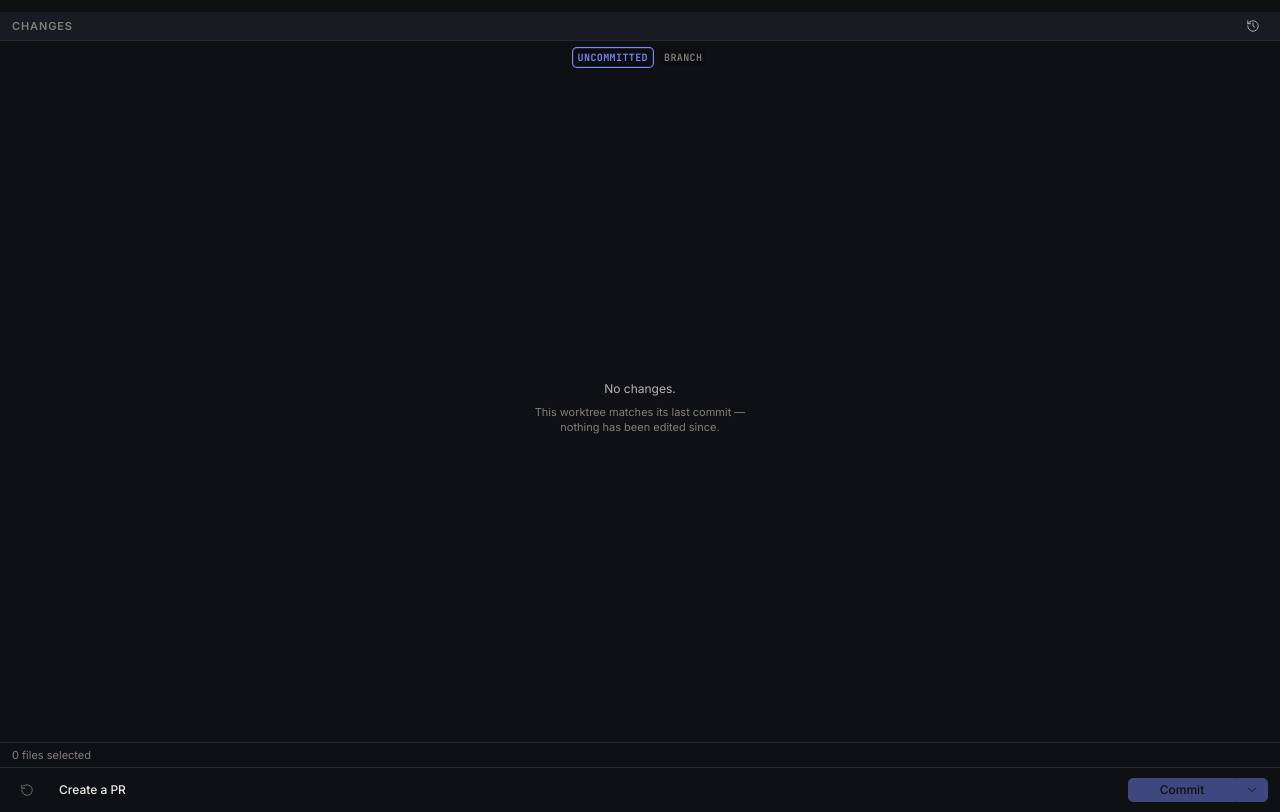
Test: the footer action control › CHG-FR-35, CHG-FR-36, CHG-FR-37 keeps Commit selectable while nothing is ticked, and Push not while nothing is pushable
Expected: the text "No changes." is shown, [604,381,676,397]
Expected: the button "Commit" is disabled, [1128,778,1236,802]
Click the button named "Choose action" at (1252, 790), box [1236,778,1268,802]
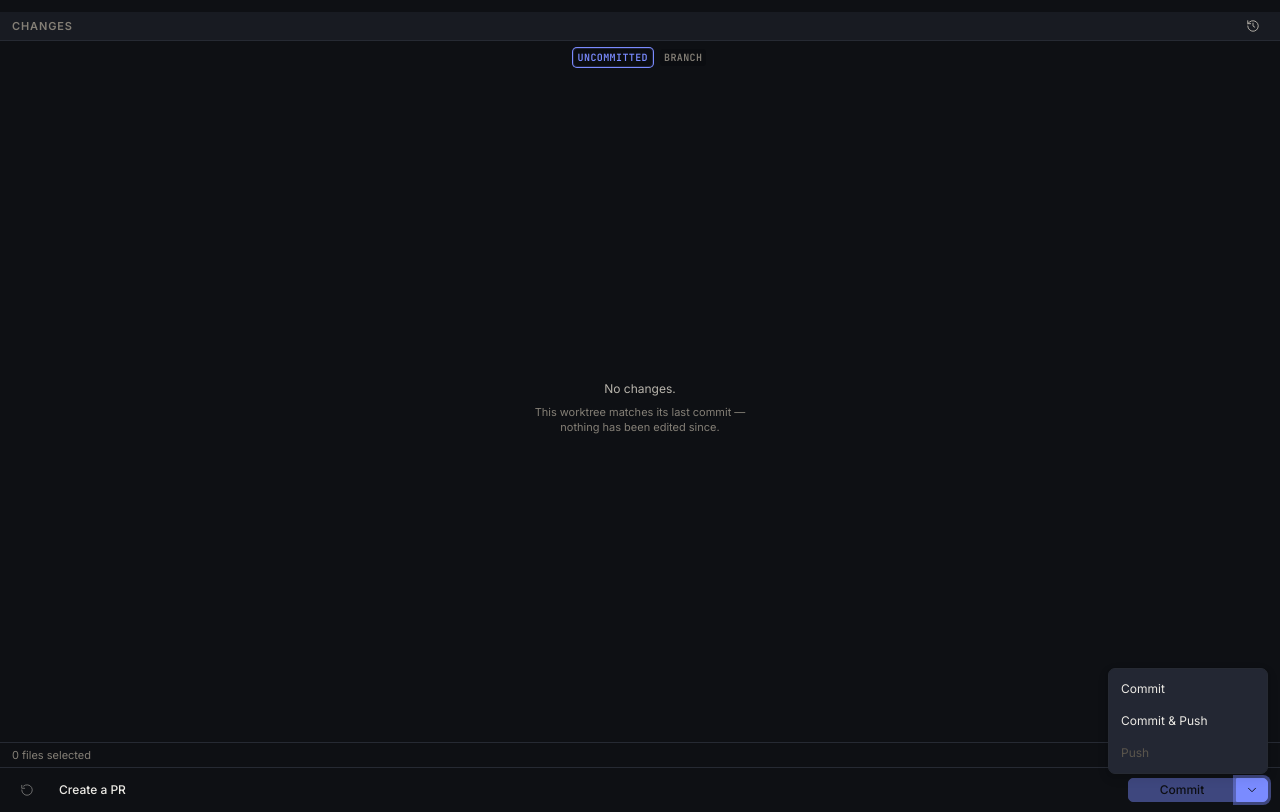
Expected: the number of options is 3
Expected: the option "Push" is shown
// Activating it persists nothing and changes nothing.
Click the option "Push" at (1135, 752), box [1121,745,1149,760]
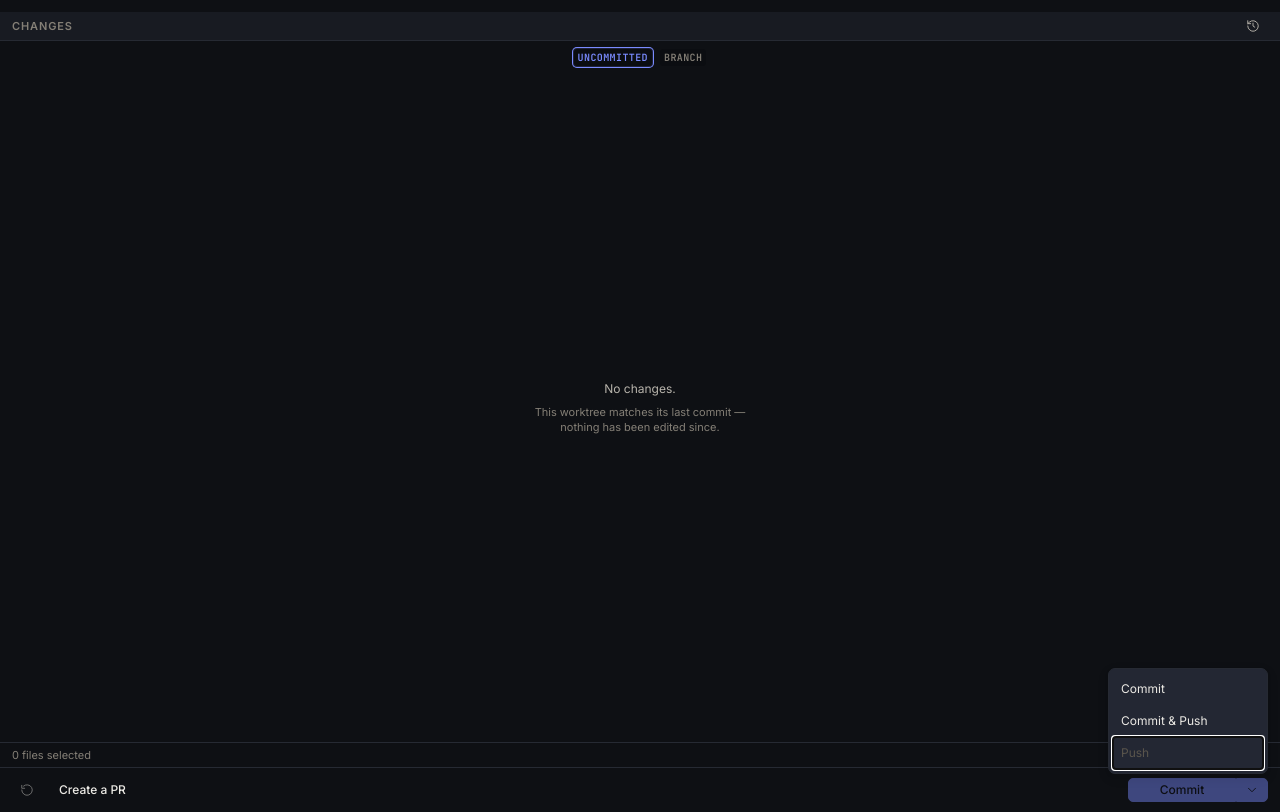
Expected: the button "Commit" is shown, [1128,778,1236,802]
Click the option "Commit & Push" at (1164, 720), box [1121,713,1208,728]
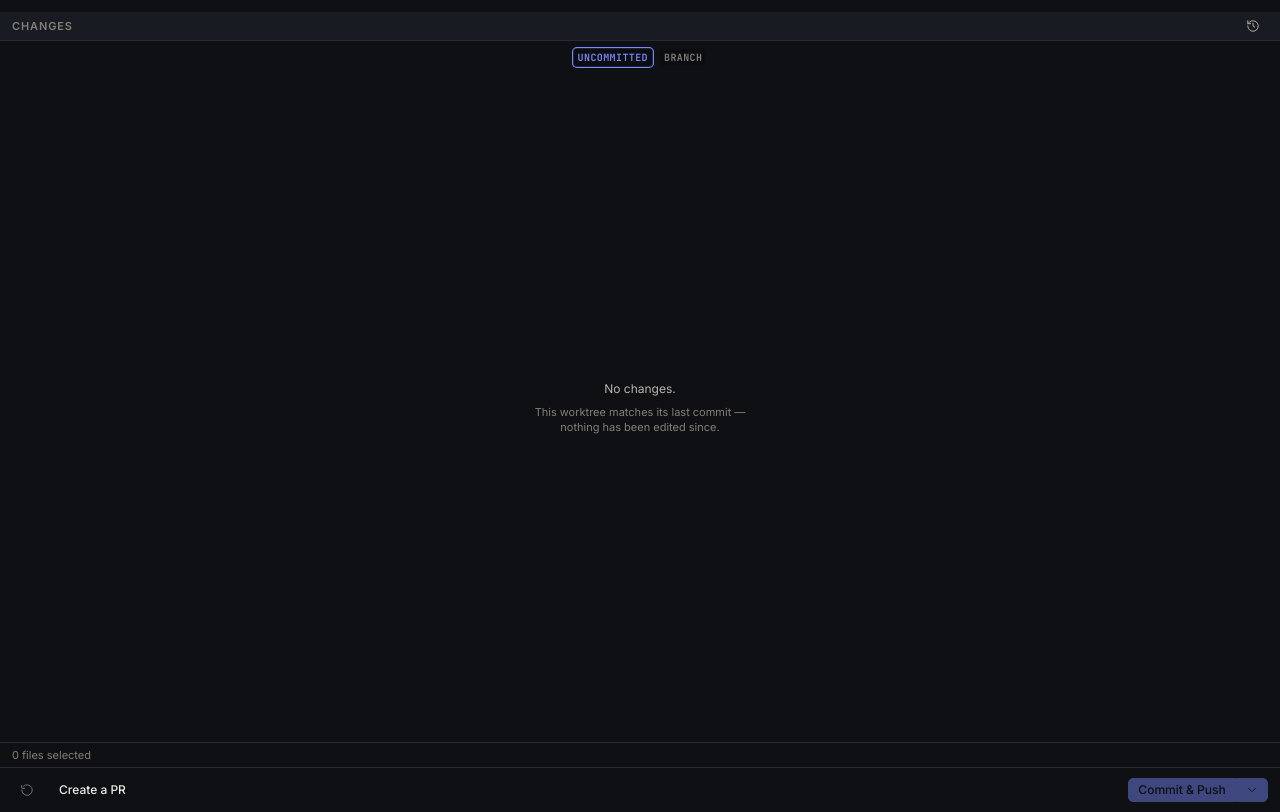
Expected: the button "Commit & Push" is shown, [1128,778,1236,802]
